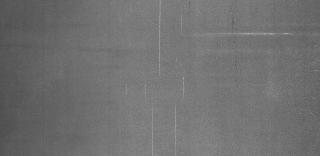scratches: (156, 0, 170, 92), (195, 28, 302, 40)
